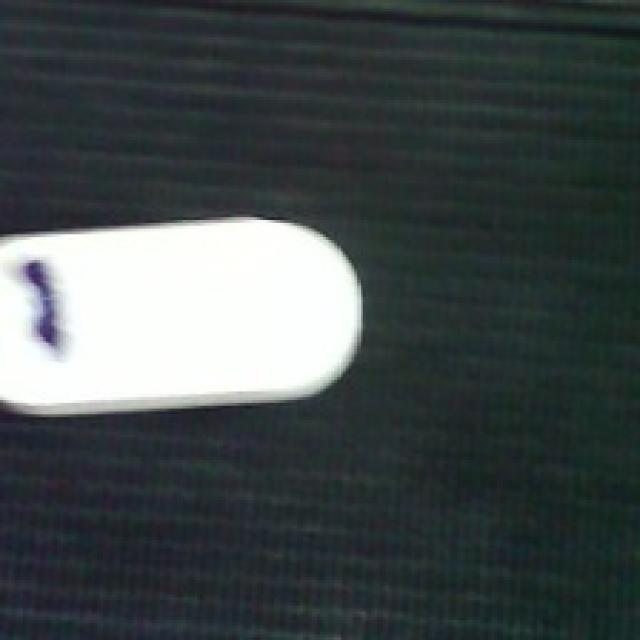defected: (3, 209, 368, 414)
